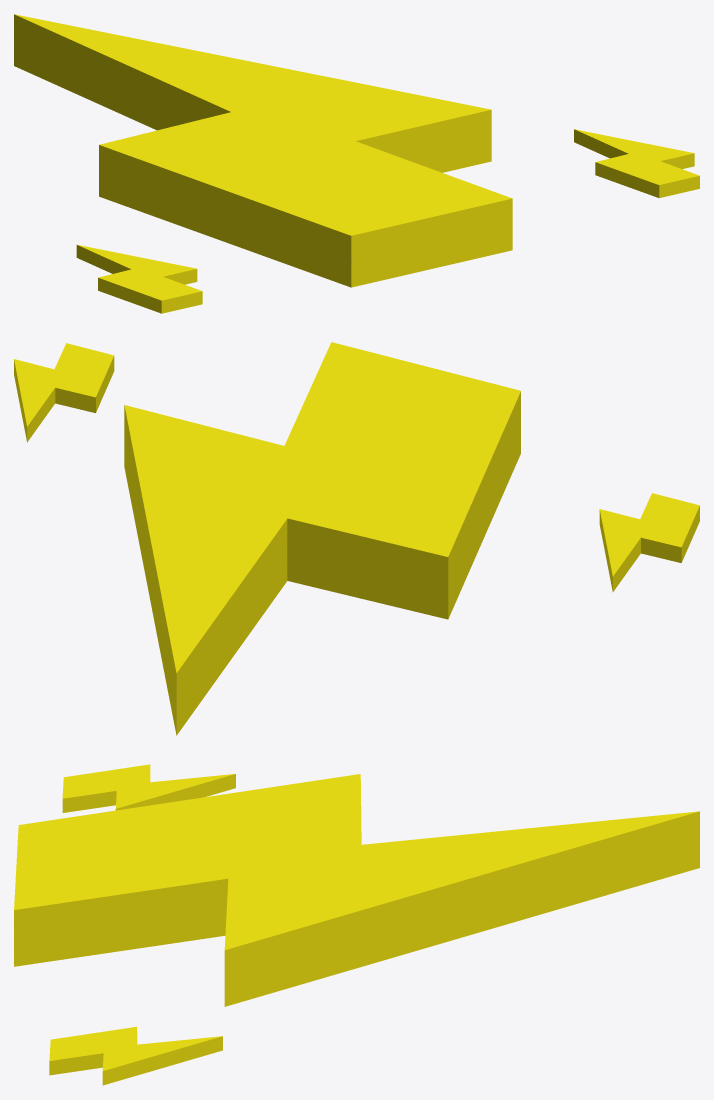
File: LightningBolt.obj
3 renders of one model, top to bottom at view 1: azimuth 30°, elevation 25°; view 2: azimuth 150°, elevation 25°; view 3: azimuth 270°, elevation 25°, orthographic. The views are drawn at different scales.
Visible parts, largest first — view 1: Object.1, Object.3, Object.2; view 2: Object.1, Object.2, Object.3; view 3: Object.1, Object.2, Object.3.
Boxes of the visible parts, x1,y1,x2,y2 form: Object.1: [14, 14, 512, 287]; Object.3: [76, 244, 202, 313]; Object.2: [574, 129, 699, 198]; Object.1: [124, 342, 520, 735]; Object.2: [14, 343, 114, 442]; Object.3: [599, 493, 699, 591]; Object.1: [14, 774, 699, 1006]; Object.2: [49, 1026, 222, 1085]; Object.3: [62, 764, 235, 812].
Size of the model in its own units: 30 by 2.58 by 28.33.
Materials: 1 (1 with a texture image).
